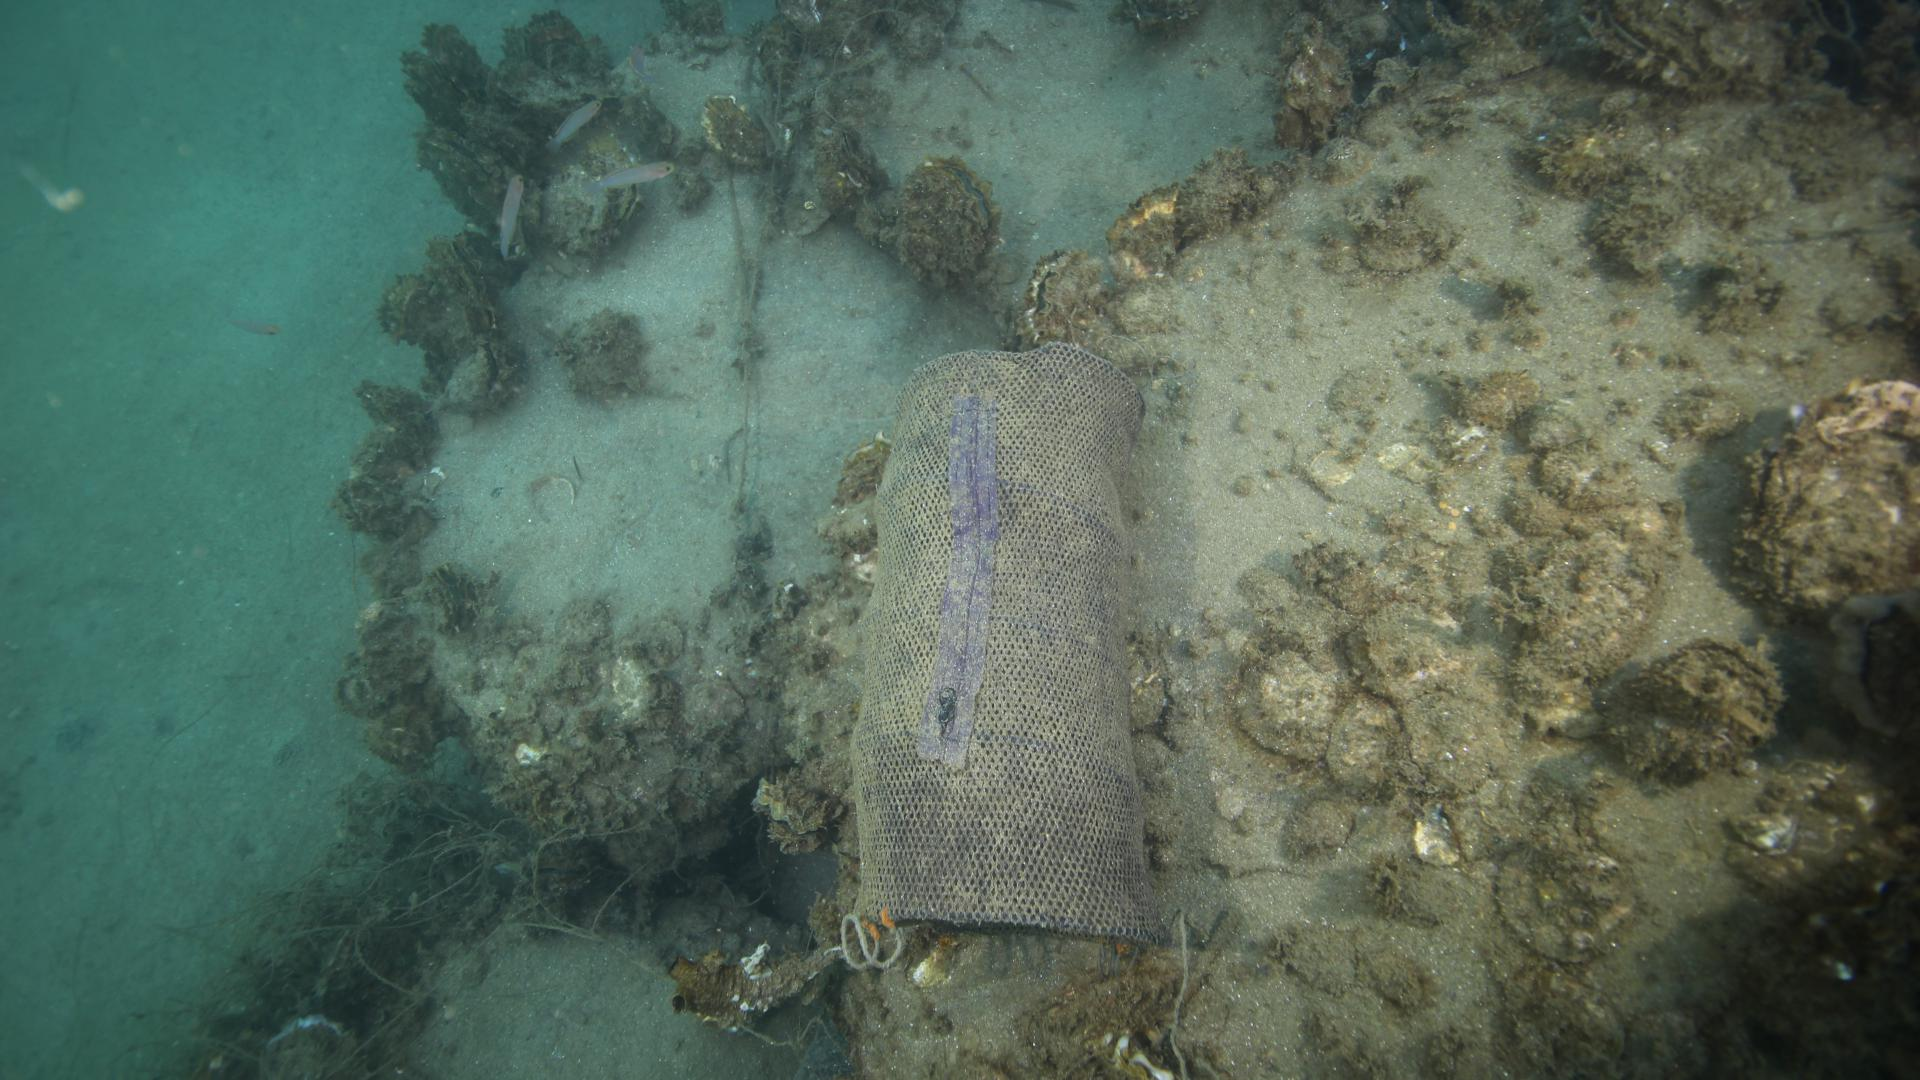spring fish trap: (853, 334, 1178, 961)
